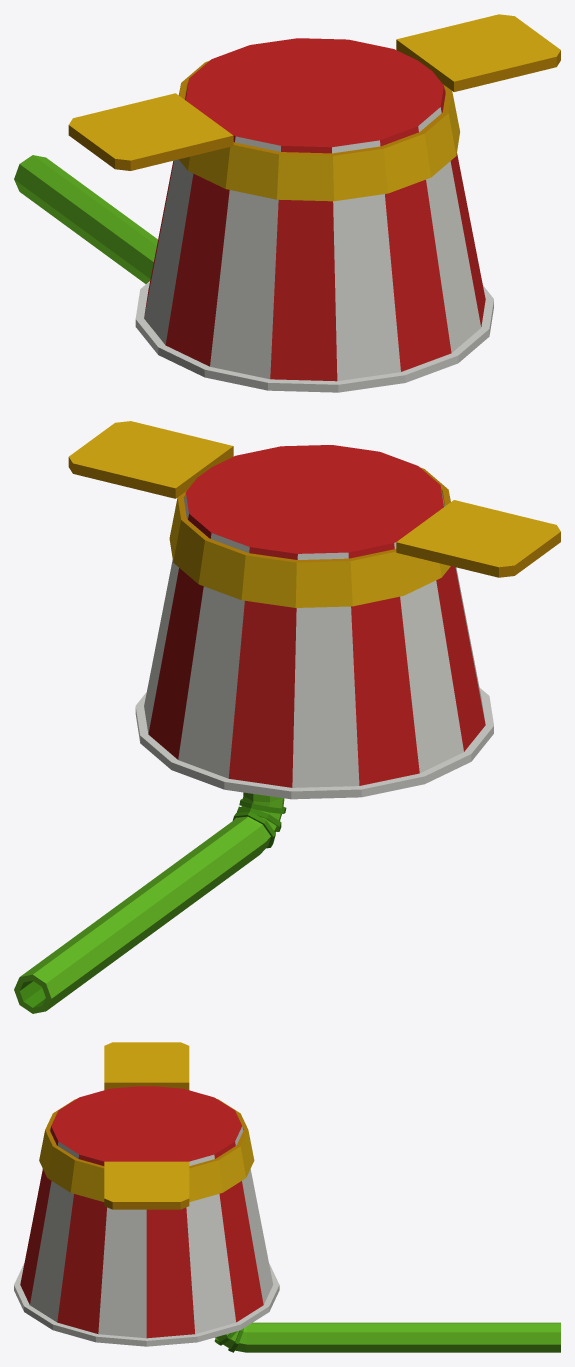
Rendered from body.fbx.
3 renders of one model, top to bottom at view 1: azimuth 30°, elevation 25°; view 2: azimuth 150°, elevation 25°; view 3: azimuth 270°, elevation 25°, orthographic. The views are drawn at different scales.
Visible parts, largest first — view 1: body; view 2: body; view 3: body.
Boxes of the visible parts, box(x1,y1,x2,y2) form: body: box(14, 14, 560, 392); body: box(14, 421, 560, 1013); body: box(14, 1042, 560, 1352).
Bounding box in the file's own units: 1.78 × 1.19 × 2.57.
